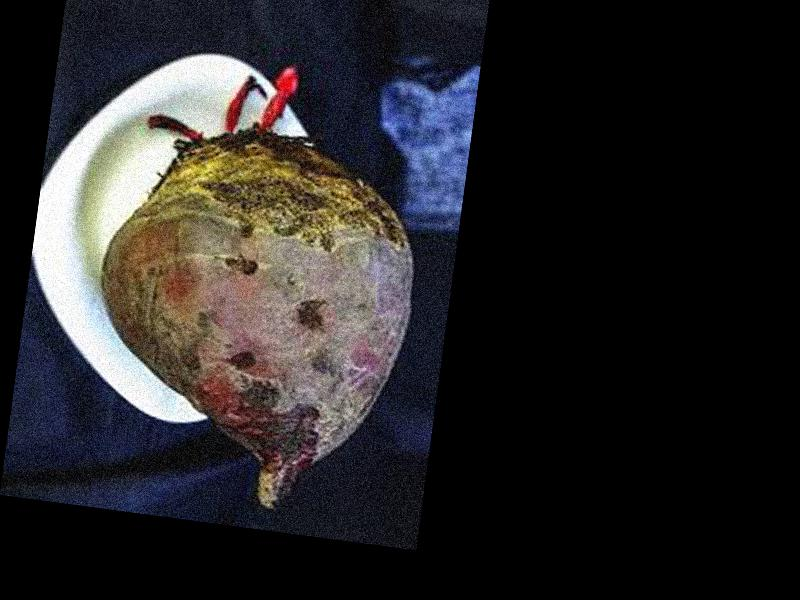Beet: (75, 45, 436, 520)
